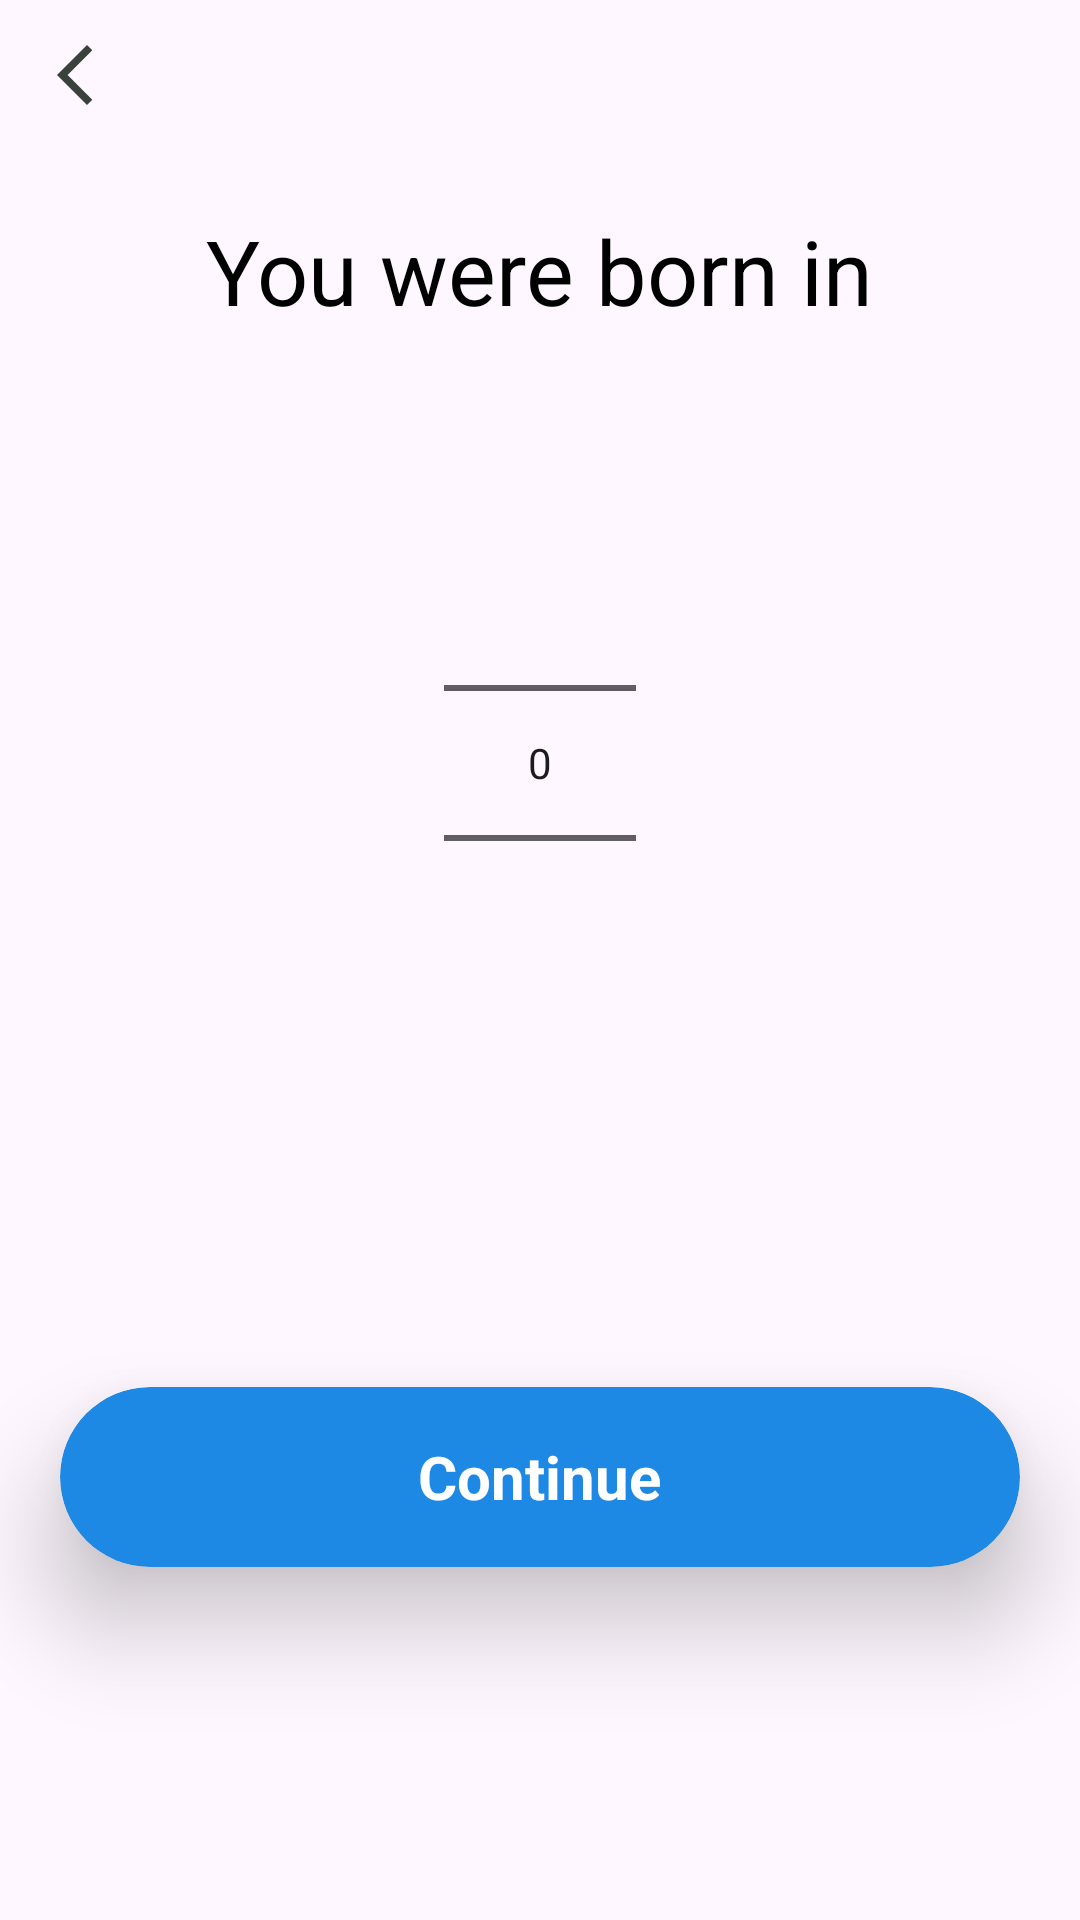

Icons on this 1080w x 1920h Android screen, each with its box as (x1, y1, x2, y2):
back: (57, 45, 92, 105)
